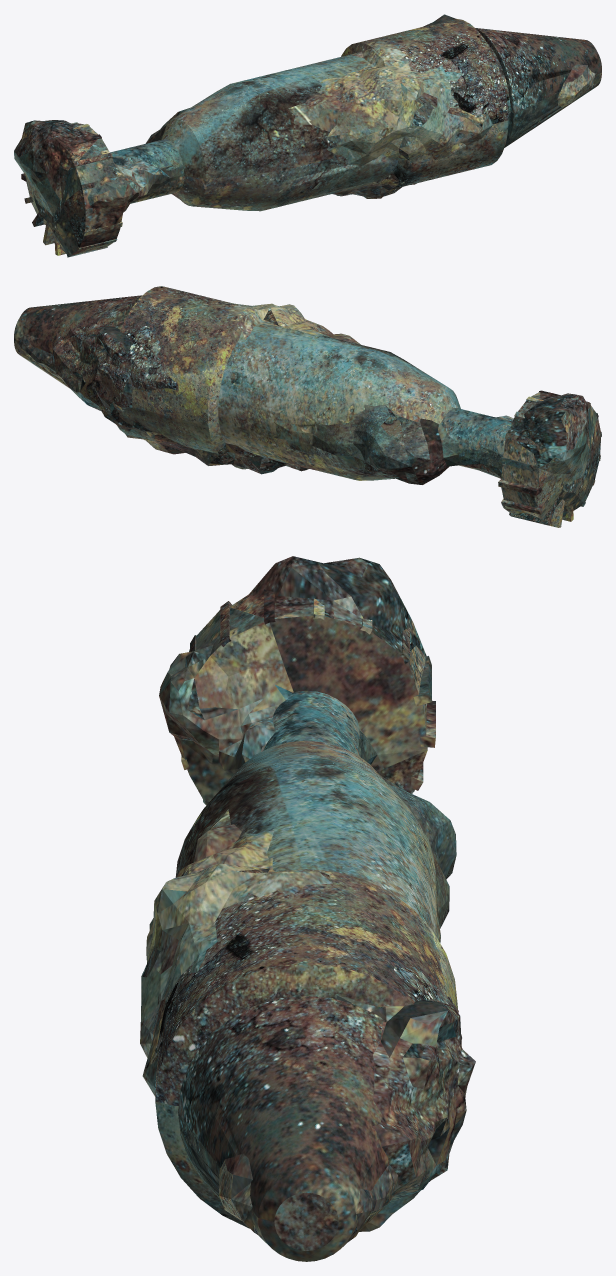
The model's file is uxo_b.dae.
3 views of the same model, one above another, from view 1: azimuth 30°, elevation 25°; view 2: azimuth 150°, elevation 25°; view 3: azimuth 270°, elevation 25° (orthographic). The views are drawn at different scales.
Parts seen in each view (by area): view 1: Munition-B; view 2: Munition-B; view 3: Munition-B.
Part boxes in pixels (x1,y1,x2,y2): Munition-B: (14, 14, 601, 257); Munition-B: (14, 286, 601, 527); Munition-B: (140, 556, 475, 1261).
Size of the model in its own units: 1.79 by 0.4643 by 0.458.
1 material, 1 textured.
